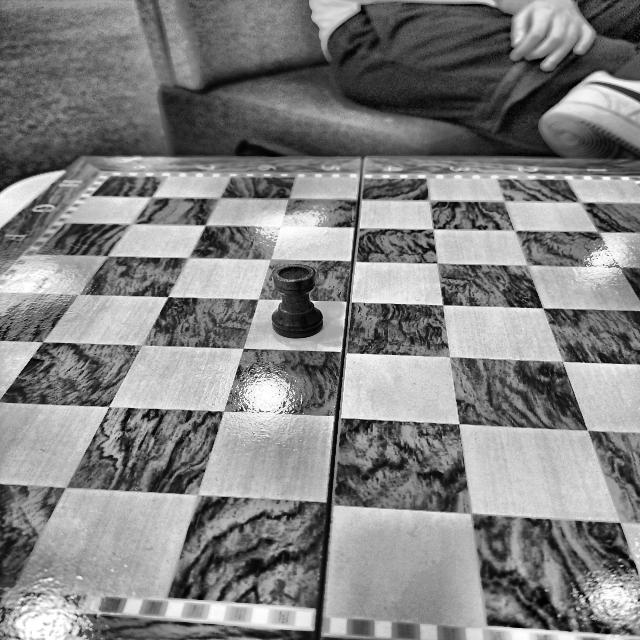black-rook: (271, 264, 323, 338)
